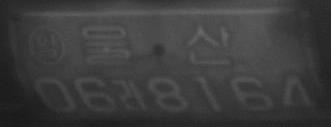0: (31, 75, 76, 114)
1: (191, 75, 226, 112)
4: (281, 74, 319, 116)
6: (229, 76, 274, 113), (77, 76, 117, 113)
8: (149, 76, 189, 115)
라: (117, 77, 148, 114)
영: (28, 25, 67, 68)
울산_D: (81, 23, 233, 67)
